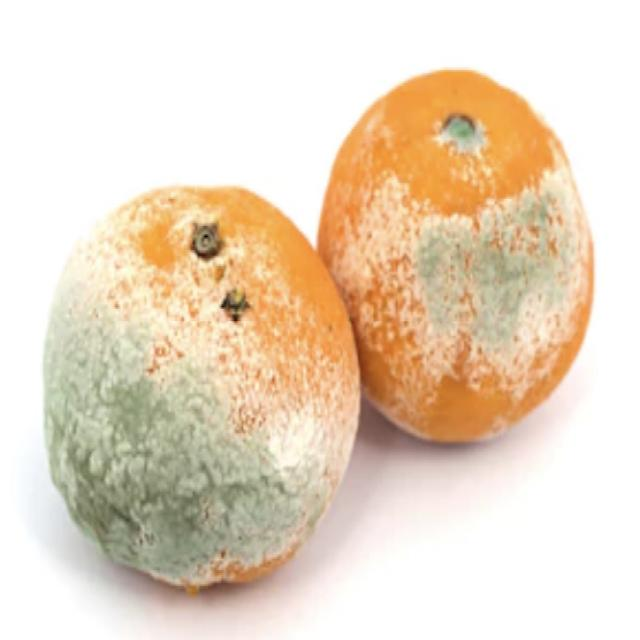rotten-orange: (42, 182, 361, 588), (318, 70, 593, 445)
